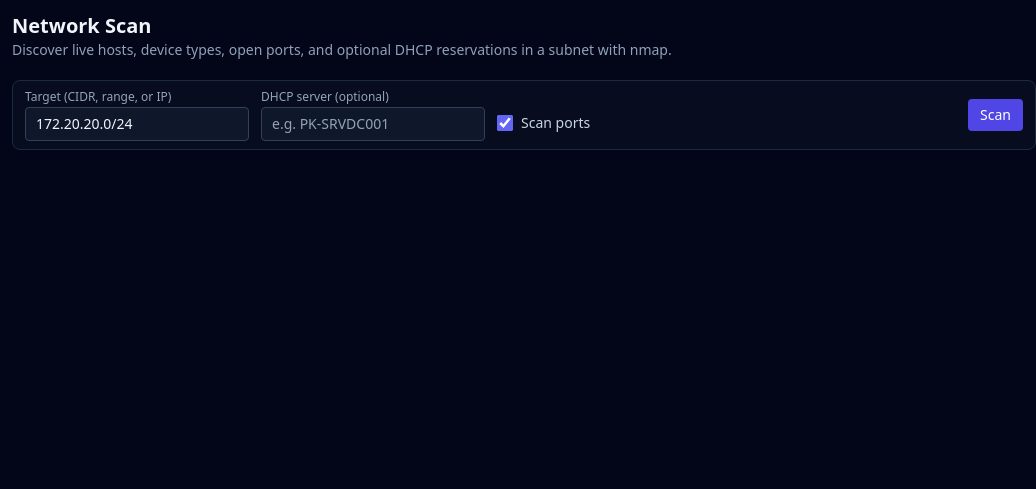
Scenario: NetworkScanPage › keeps scan diagnostics behind actionable guidance and offers a local retry
Click the button "Scan".
click(996, 115)  # box x1=968 y1=99 x2=1023 y2=131
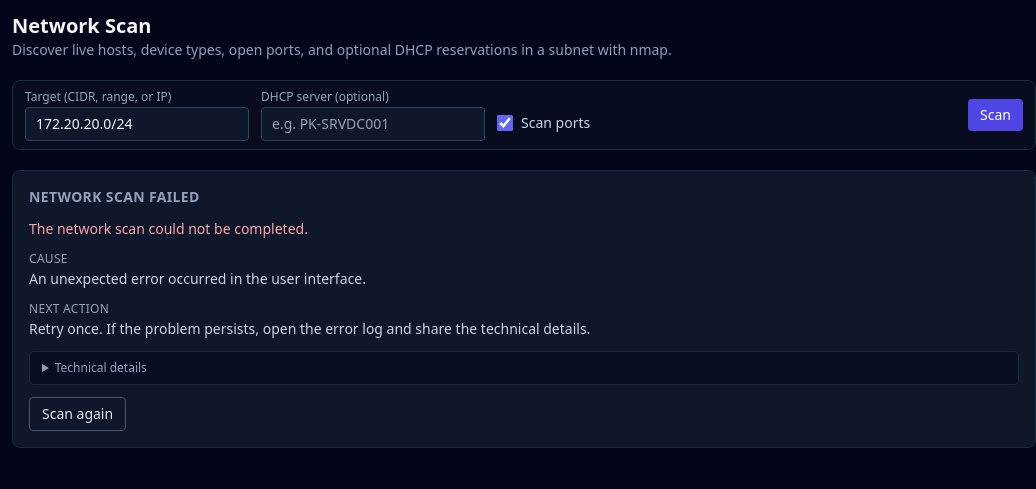
Check: the text "The network scan could not be completed." is shown, box x1=29 y1=219 x2=308 y2=238
Check: the text "Cause" is shown, box x1=29 y1=250 x2=68 y2=267
Check: the text "Next action" is shown, box x1=29 y1=300 x2=109 y2=317
Click the heading "Technical details".
click(101, 368)  # box x1=55 y1=359 x2=147 y2=376
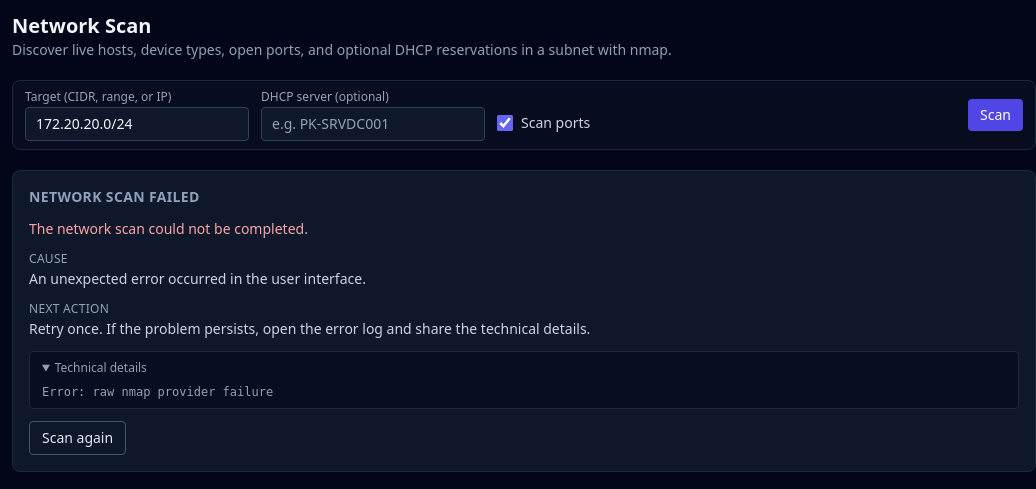
Check: the text "Error: raw nmap provider failure" is shown, box x1=42 y1=385 x2=273 y2=399
